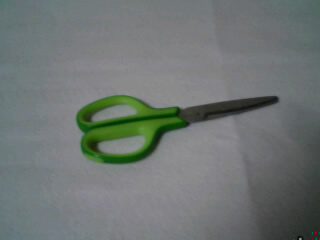003_classes: (64, 86, 284, 163)
